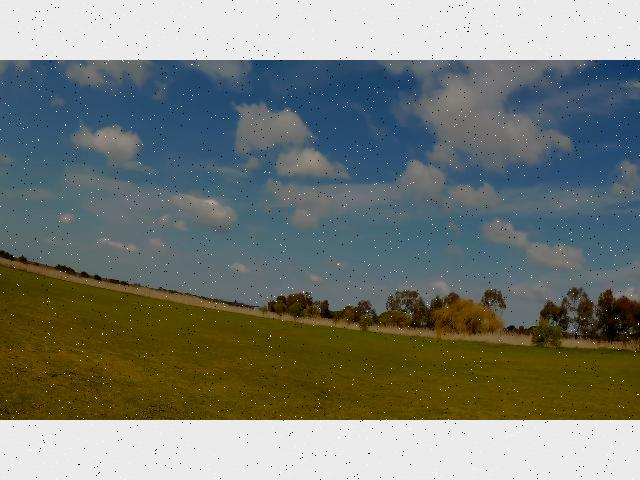Anti-Drone: (328, 257, 350, 275)
